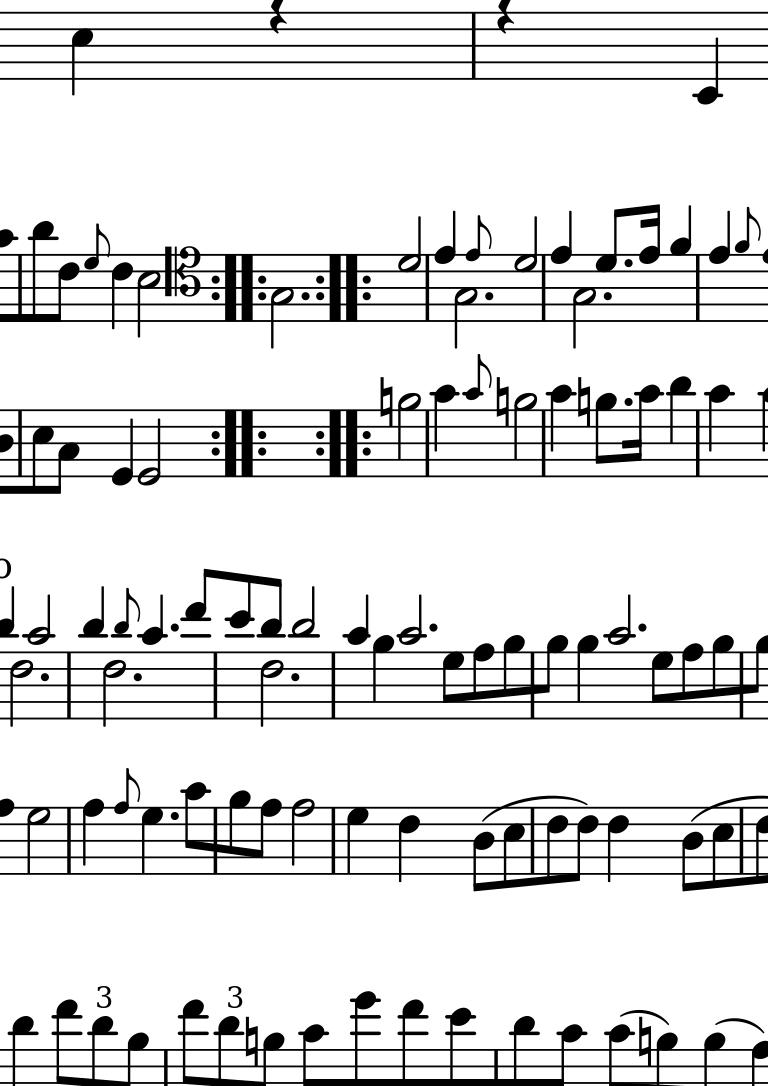16_10: (628, 383, 663, 477)
16_8: (639, 203, 662, 323)
2_0: (137, 408, 163, 485)
2_10: (606, 594, 632, 720), (397, 592, 423, 718), (26, 593, 52, 719)
2_11: (291, 585, 317, 720)
2_3: (454, 253, 481, 349), (270, 253, 296, 348), (572, 253, 598, 348)
2_5: (136, 253, 163, 338)
2_6: (101, 652, 128, 728), (258, 650, 284, 728), (8, 651, 33, 725)
2_7: (397, 214, 422, 321), (513, 214, 538, 321), (25, 807, 52, 876)
2_8: (290, 798, 316, 877)
2_9: (513, 391, 538, 479), (396, 393, 421, 478)
3: (225, 983, 245, 1011), (95, 984, 112, 1009)
4_-2: (695, 12, 722, 106)
4_0: (111, 408, 134, 486)
4_10: (345, 593, 371, 719), (139, 593, 165, 719), (432, 383, 460, 479), (707, 383, 733, 476), (549, 384, 573, 478)
4_11: (78, 585, 104, 720), (668, 376, 692, 478)
4_5: (69, 11, 97, 95)
4_6: (607, 805, 632, 881), (397, 807, 422, 882), (110, 253, 132, 334)
4_7: (139, 807, 163, 875), (346, 806, 369, 875)
4_8: (708, 209, 731, 323), (82, 797, 106, 876)
4_9: (670, 205, 692, 324), (576, 634, 600, 720), (371, 635, 395, 720)
8_10: (182, 782, 206, 875)
8_11: (258, 575, 285, 718), (30, 220, 54, 323)
8_12: (227, 570, 253, 721)
8_13: (183, 567, 211, 720)
8_3: (54, 408, 81, 495)
8_4: (679, 806, 703, 890), (472, 806, 494, 893)
8_5: (30, 409, 54, 496), (711, 806, 735, 889), (503, 807, 525, 889)
8_6: (50, 253, 79, 323), (545, 805, 569, 885), (573, 806, 598, 881)
8_7: (441, 649, 464, 719), (651, 650, 673, 720)
8_8: (596, 206, 625, 323), (254, 798, 283, 875), (681, 641, 705, 719), (473, 643, 494, 721)
8_9: (539, 636, 570, 718), (227, 789, 253, 875), (711, 634, 735, 720), (501, 634, 525, 718), (595, 391, 618, 478)
Appoggiature: (110, 767, 141, 876), (734, 207, 762, 321), (84, 222, 110, 324)
Natural: (636, 1016, 657, 1075), (244, 1015, 260, 1064), (576, 377, 592, 425), (494, 376, 509, 427), (378, 377, 393, 425)
RightAndLeftRepeatSign: (208, 409, 269, 478), (312, 409, 373, 477), (315, 254, 373, 322), (210, 253, 266, 323)
Single_barline: (324, 807, 343, 880), (61, 650, 79, 722), (12, 409, 30, 476), (464, 10, 481, 80), (535, 257, 553, 323), (323, 652, 339, 720), (419, 409, 435, 477), (692, 253, 707, 323), (421, 253, 436, 322), (690, 407, 705, 476), (208, 806, 223, 874), (209, 649, 223, 721), (537, 407, 551, 476), (528, 650, 541, 722), (526, 807, 539, 876), (737, 806, 748, 874)
Slur: (483, 796, 592, 822), (715, 1014, 767, 1033), (621, 1007, 669, 1026)
Tensor_Cclef: (162, 243, 203, 323)
dot: (597, 286, 619, 308), (479, 286, 501, 307), (128, 666, 147, 686), (36, 667, 53, 687), (287, 667, 304, 686), (621, 252, 637, 271), (167, 620, 181, 635), (426, 621, 439, 635), (131, 668, 143, 683), (297, 290, 312, 302), (621, 396, 634, 409), (167, 809, 179, 822), (601, 289, 612, 302), (484, 290, 494, 303), (637, 620, 647, 633), (38, 672, 49, 683)
